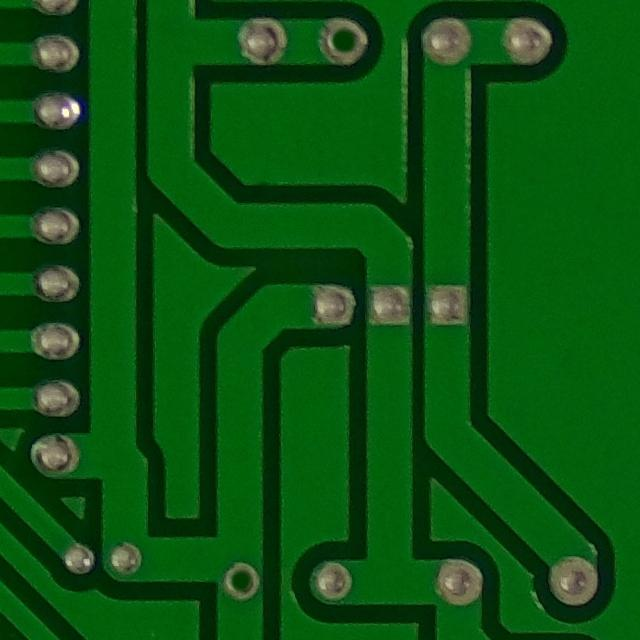missing_hole: (311, 6, 374, 72), (216, 552, 266, 609)
